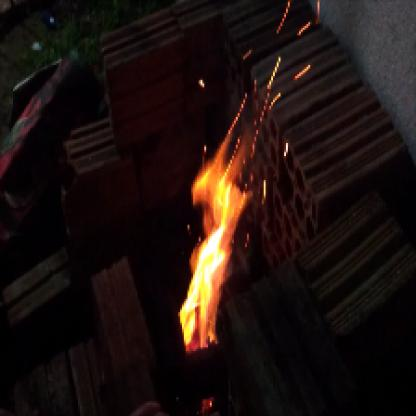Fire: (173, 84, 275, 354)
